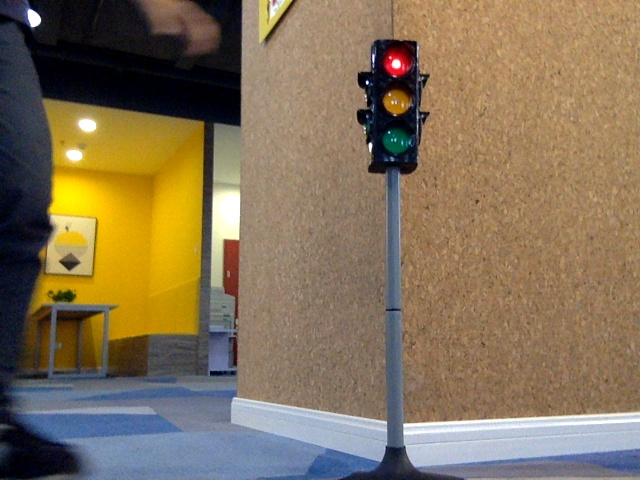red: (377, 44, 415, 156)
